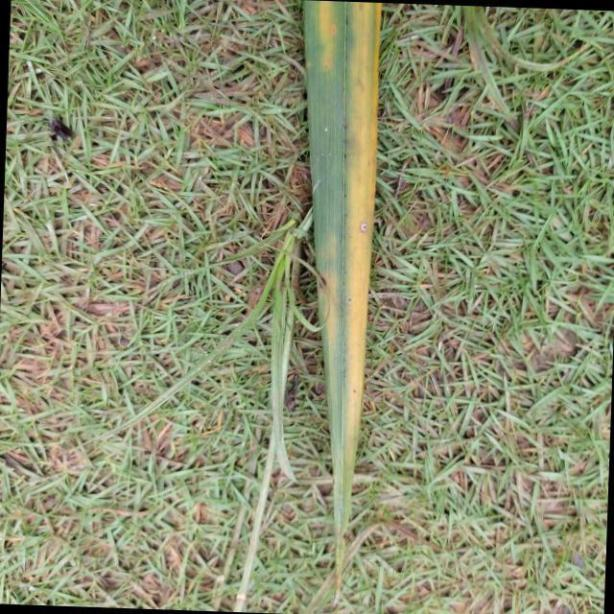Megnesium: (304, 0, 385, 614)
